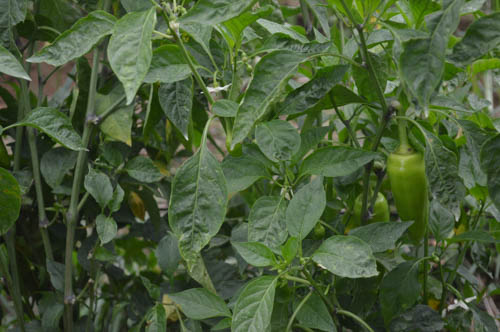ChiliPepper: (388, 153, 430, 241)
